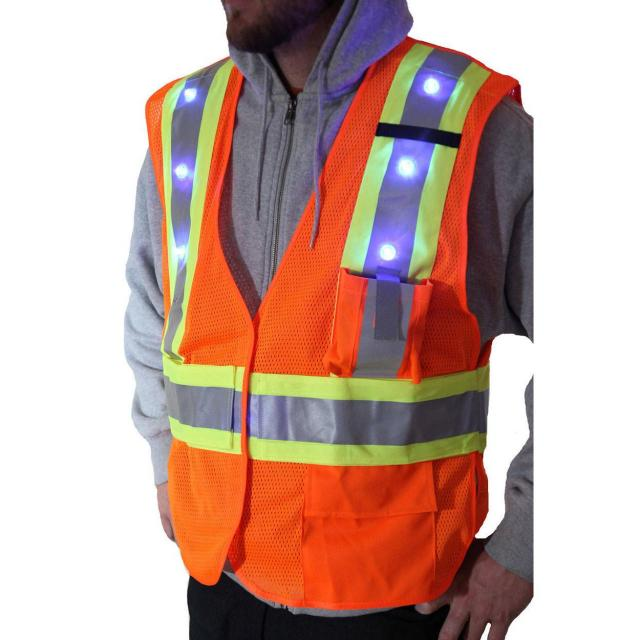Reflective-Jacket: (138, 17, 527, 613)
